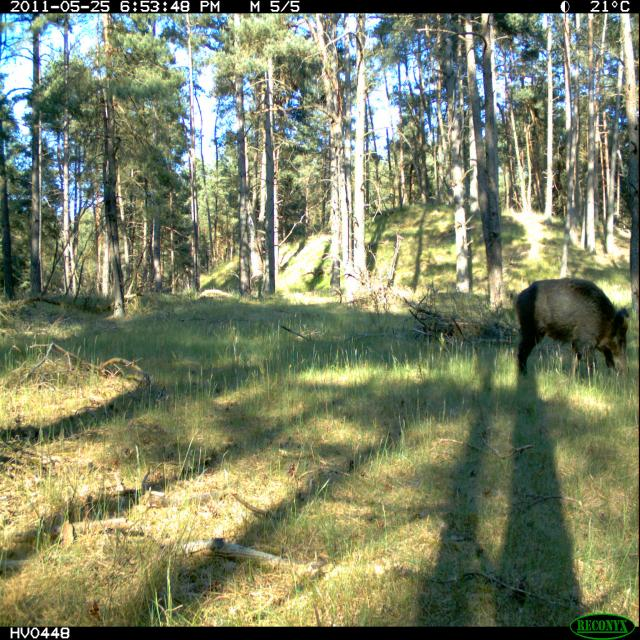boar: (482, 262, 634, 405)
